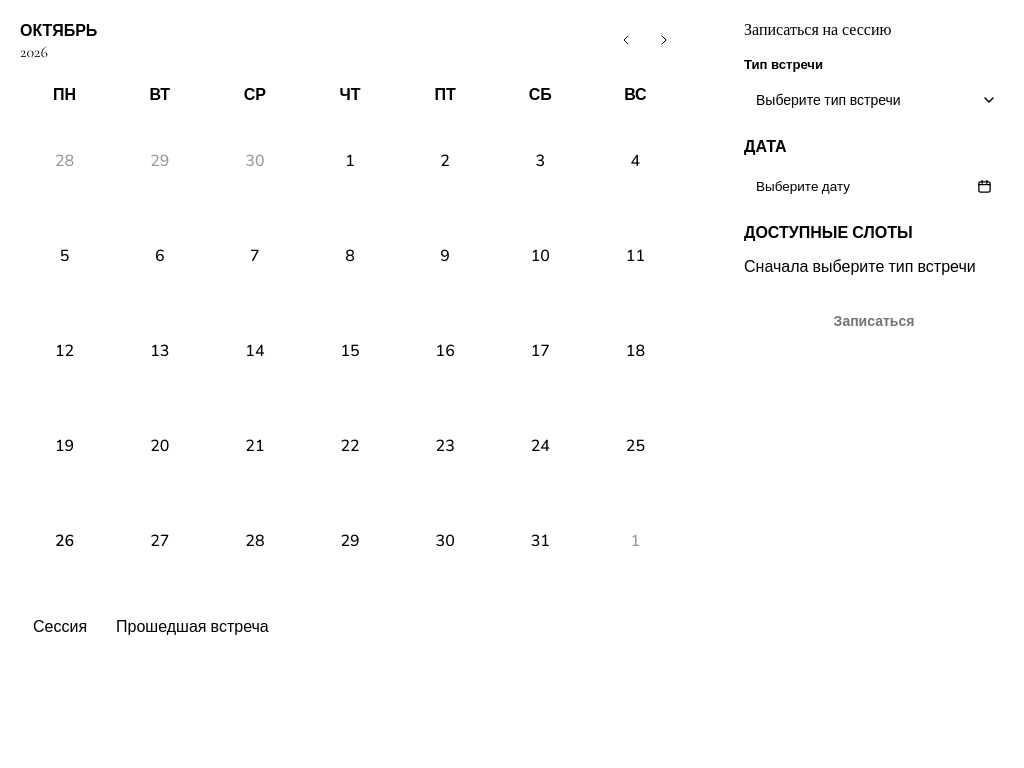
it: показывает текущий месяц и год; prev/next меняют месяц
Expected: the text "Октябрь" is shown, left=20, top=20, right=97, bottom=42
What coordinates should you click on to do the following:
click the button named "Следующий месяц"
I would click on:
 (664, 40)
Its box is left=648, top=24, right=680, bottom=56.
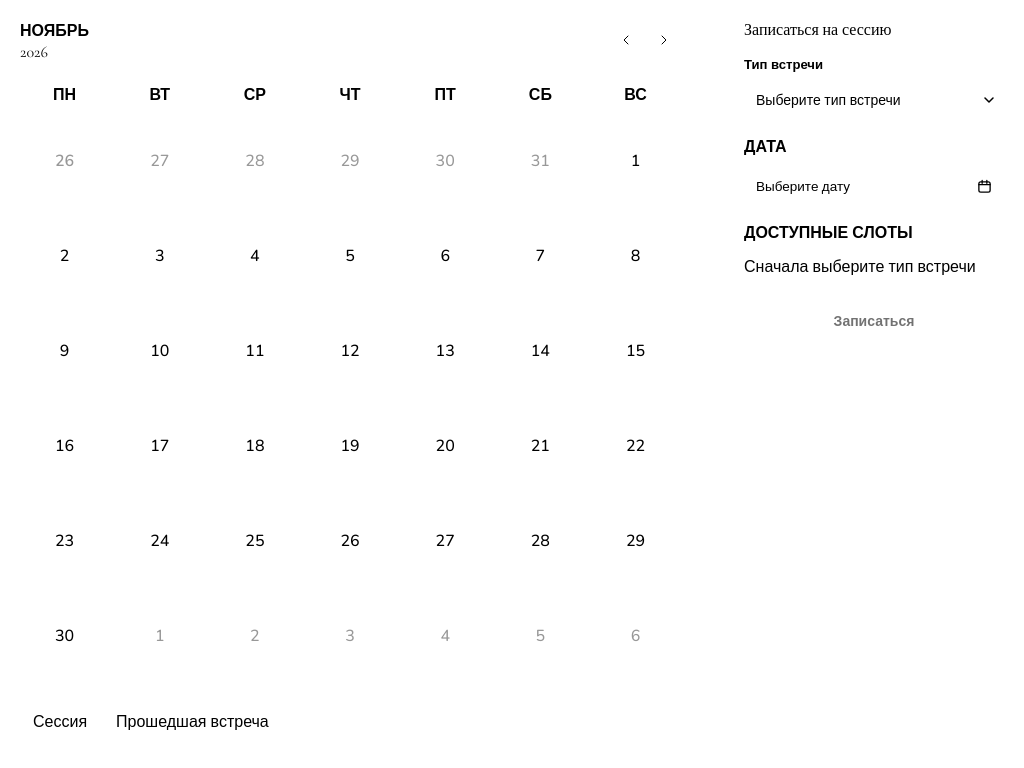
Expected: the text "Ноябрь" is shown, left=20, top=20, right=89, bottom=42
What coordinates should you click on to do the following:
click the button named "Предыдущий месяц"
I would click on:
 (626, 40)
Its box is left=610, top=24, right=642, bottom=56.
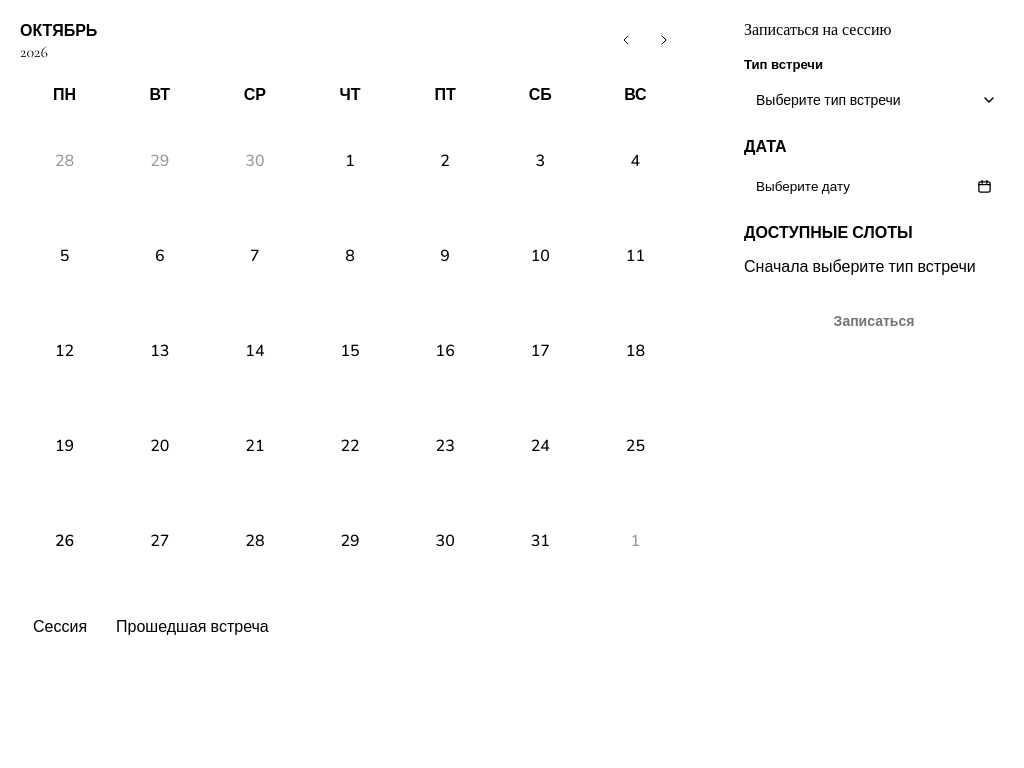
What coordinates should you click on to do the following:
click the button named "Предыдущий месяц"
I would click on:
 (626, 40)
Its box is left=610, top=24, right=642, bottom=56.
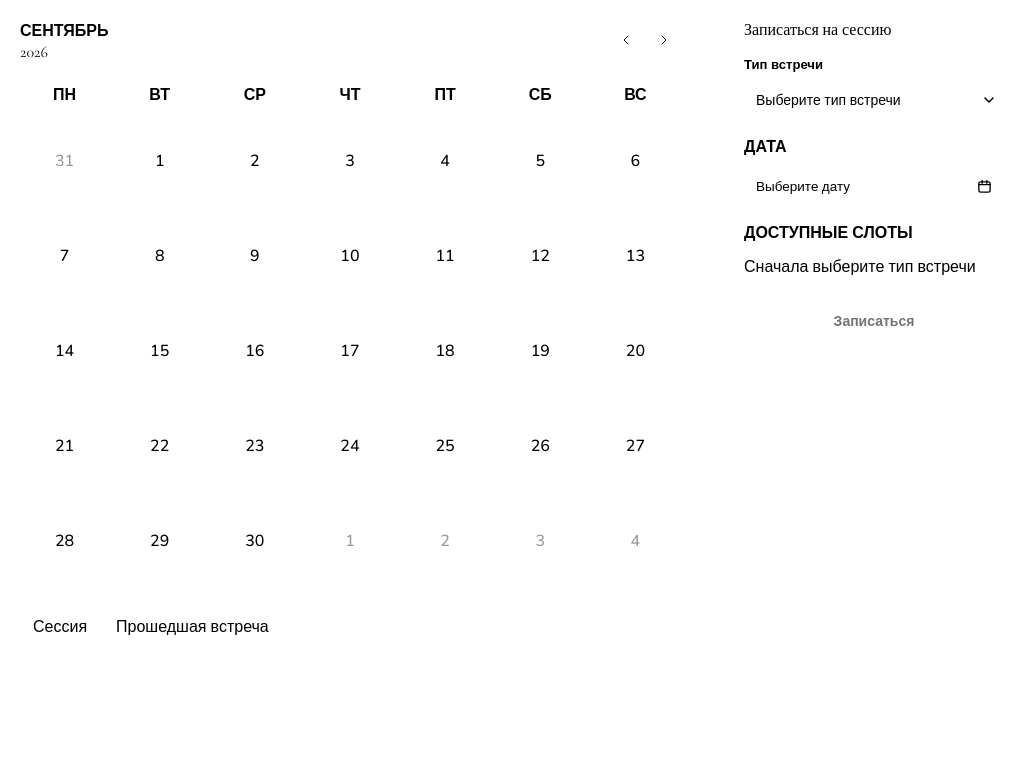
Expected: the text "Сентябрь" is shown, left=20, top=20, right=108, bottom=42
